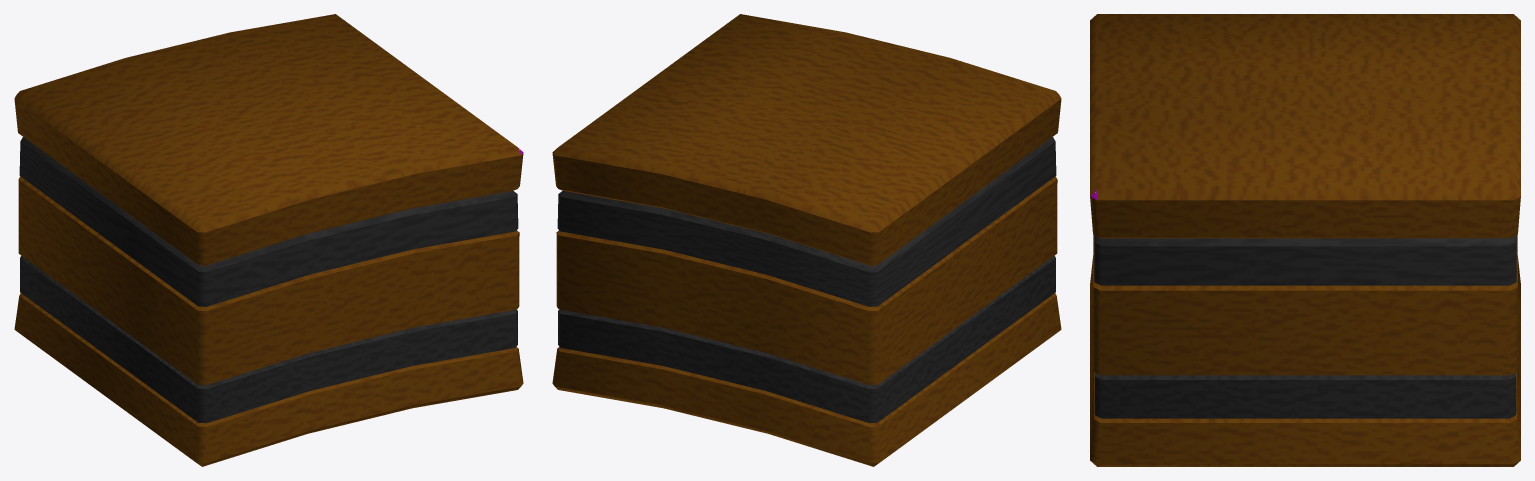
The model's file is DoubleLayersSquare2_UV_FBX.fbx.
The picture shows the model from 3 angles, left to right: view 1: azimuth 30°, elevation 25°; view 2: azimuth 150°, elevation 25°; view 3: azimuth 270°, elevation 25°; orthographic projection. The views are drawn at different scales.
Parts seen in each view (by area): view 1: 5layers; view 2: 5layers; view 3: 5layers.
Boxes of the visible parts, <box> form: 5layers: <box>14,14,523,466</box>; 5layers: <box>552,14,1061,466</box>; 5layers: <box>1090,14,1520,466</box>.
Bounding box in the file's own units: 120 × 87.67 × 120.
